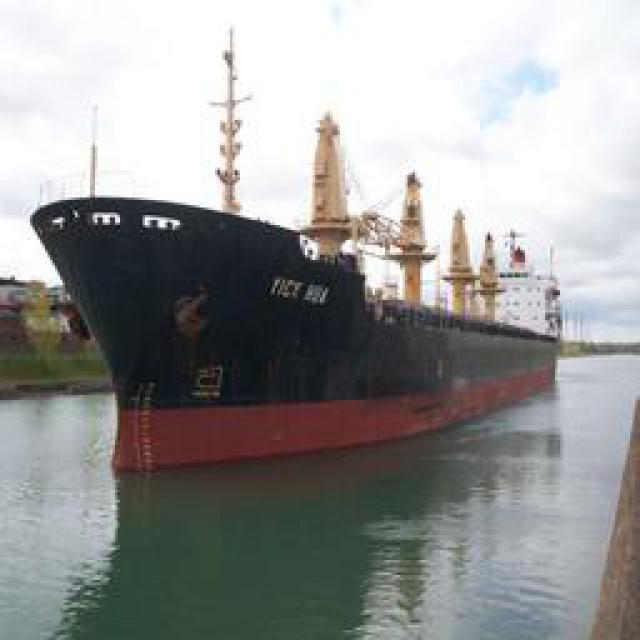Ship: (26, 182, 549, 495)
